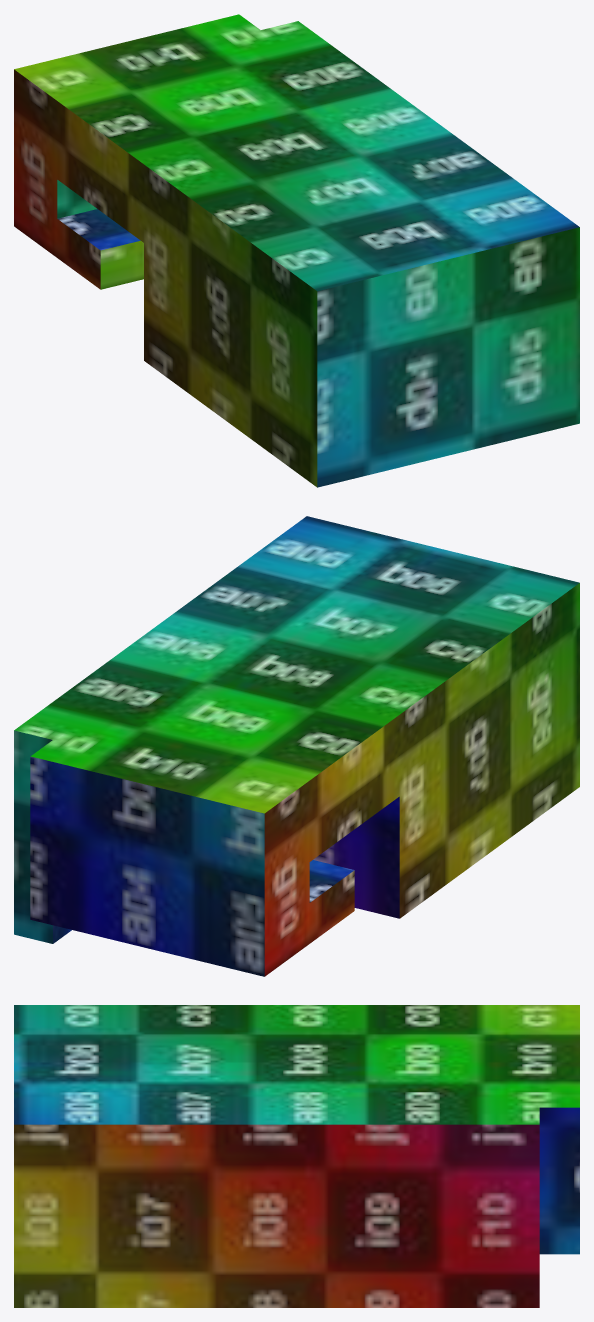
File: GloveGDLUV.obj
The picture shows the model from 3 angles, top to bottom: view 1: azimuth 30°, elevation 25°; view 2: azimuth 150°, elevation 25°; view 3: azimuth 270°, elevation 25°; orthographic projection. The views are drawn at different scales.
Parts seen in each view (by area): view 1: grobeGD; view 2: grobeGD; view 3: grobeGD.
Boxes of the visible parts, x1,y1,x2,y2 form: grobeGD: [14, 14, 579, 487]; grobeGD: [14, 516, 579, 976]; grobeGD: [14, 1005, 579, 1307].
Bounding box in the file's own units: 0.7 × 0.5 × 1.4.
1 material, 1 textured.
